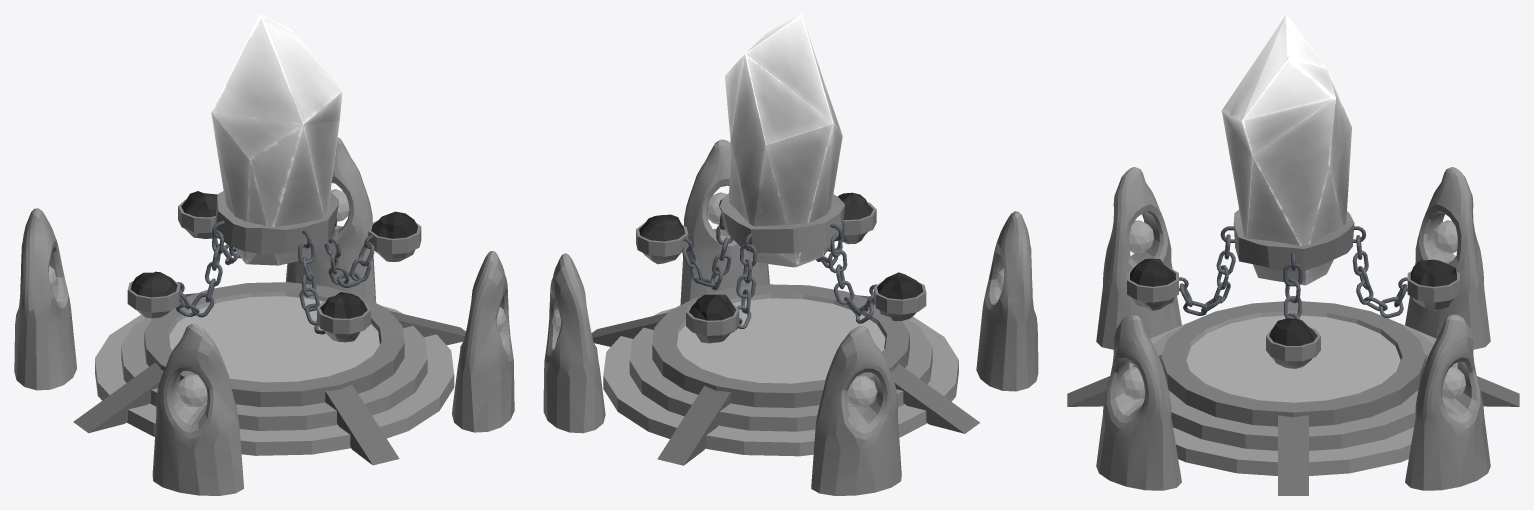
Rendered from Altar.fbx.
3 renders of one model, left to right at view 1: azimuth 30°, elevation 25°; view 2: azimuth 150°, elevation 25°; view 3: azimuth 270°, elevation 25°, orthographic. The views are drawn at different scales.
Visible parts, largest first — view 1: Altar; view 2: Altar; view 3: Altar.
Part boxes in pixels (<box>): Altar: <box>14,14,514,495</box>; Altar: <box>543,14,1038,495</box>; Altar: <box>1067,14,1519,495</box>.
Size of the model in its own units: 5337 by 5025 by 5337.
